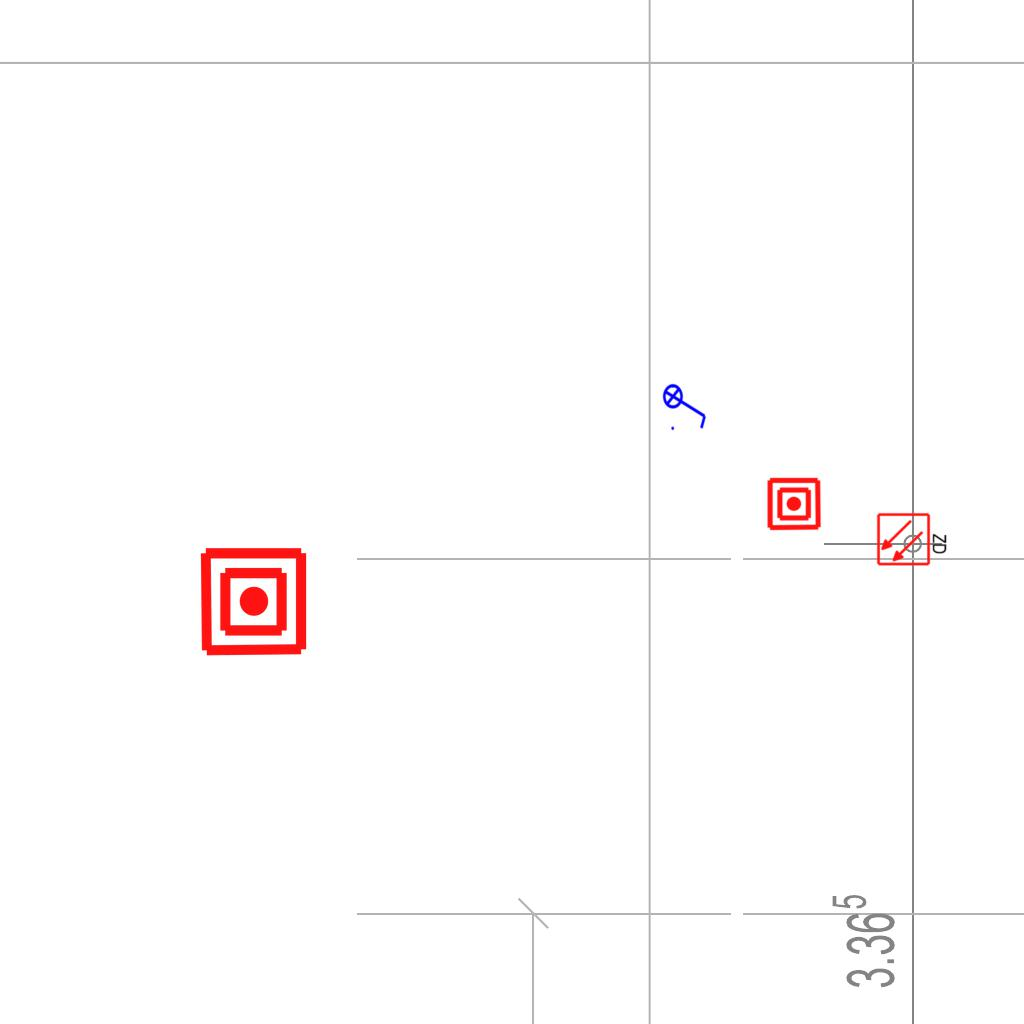Ausschalter_beleuchtet: (662, 377, 710, 433)
NAM-Nichtautomatischer_Melder: (197, 545, 310, 658), (766, 476, 822, 532)
ZD_Melder_in_Zwischendecke_mit_Revisionsoeffnung_mind_40_x_40_cm: (876, 510, 950, 567)
